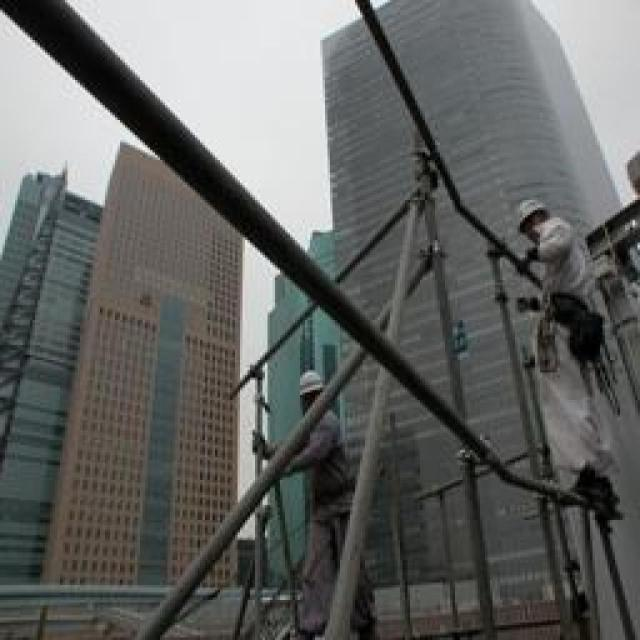Helmet: (520, 217, 622, 523), (290, 402, 370, 524), (500, 182, 568, 244), (284, 367, 356, 417)
